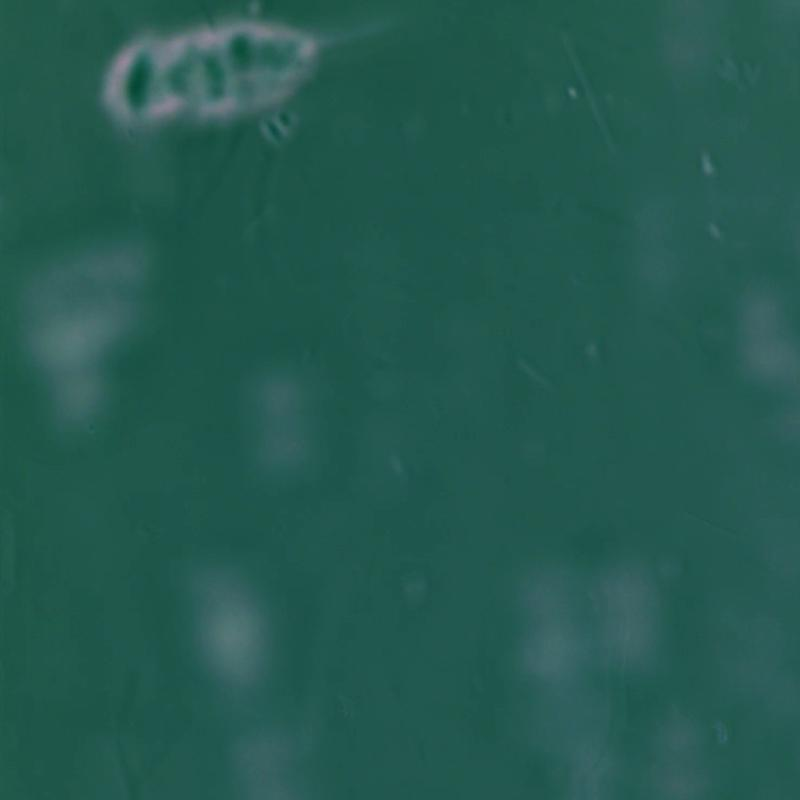depth:80: (27, 3, 434, 183)
